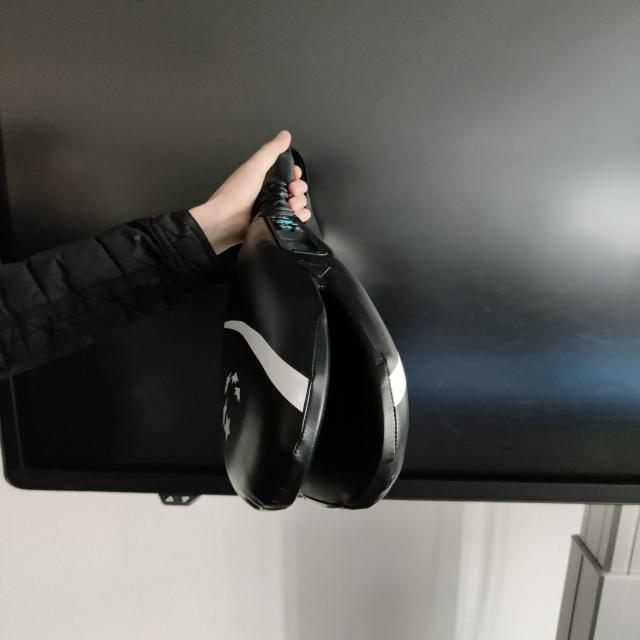paddle: (220, 151, 415, 514)
